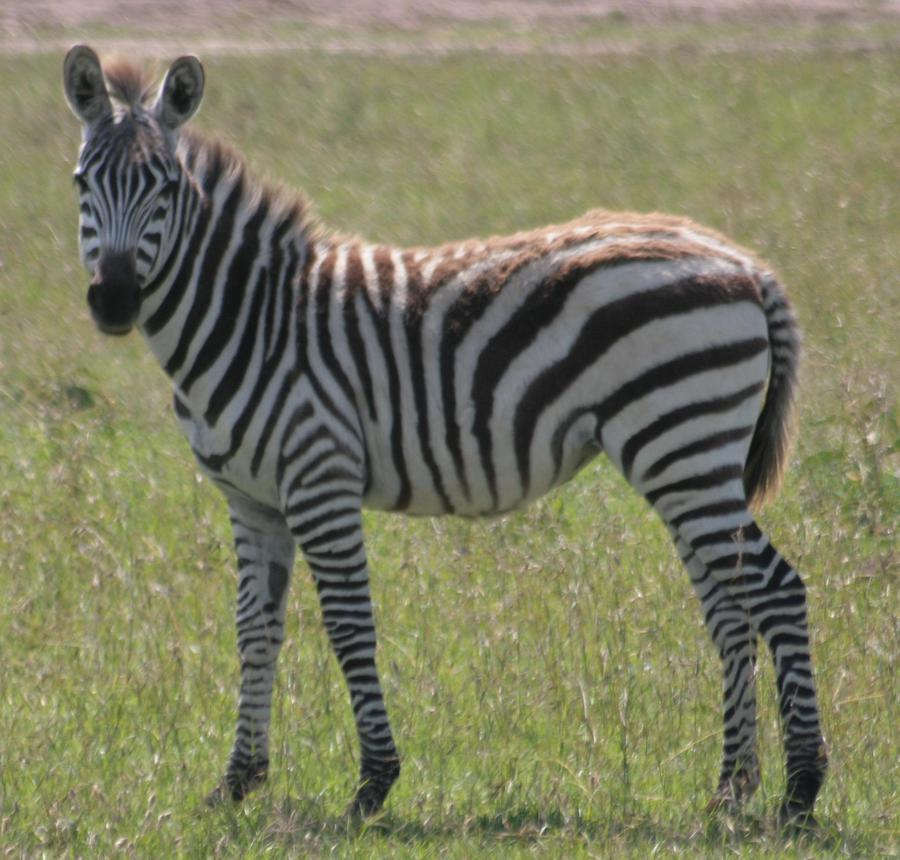zebra_plains: (196, 209, 786, 511)
